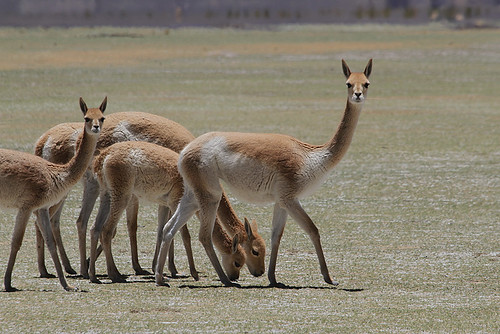eye: (339, 79, 356, 89), (251, 246, 264, 258), (231, 259, 242, 269), (363, 79, 372, 89), (101, 120, 105, 124), (81, 119, 89, 120)
mouth: (91, 126, 105, 134), (354, 96, 367, 101)
